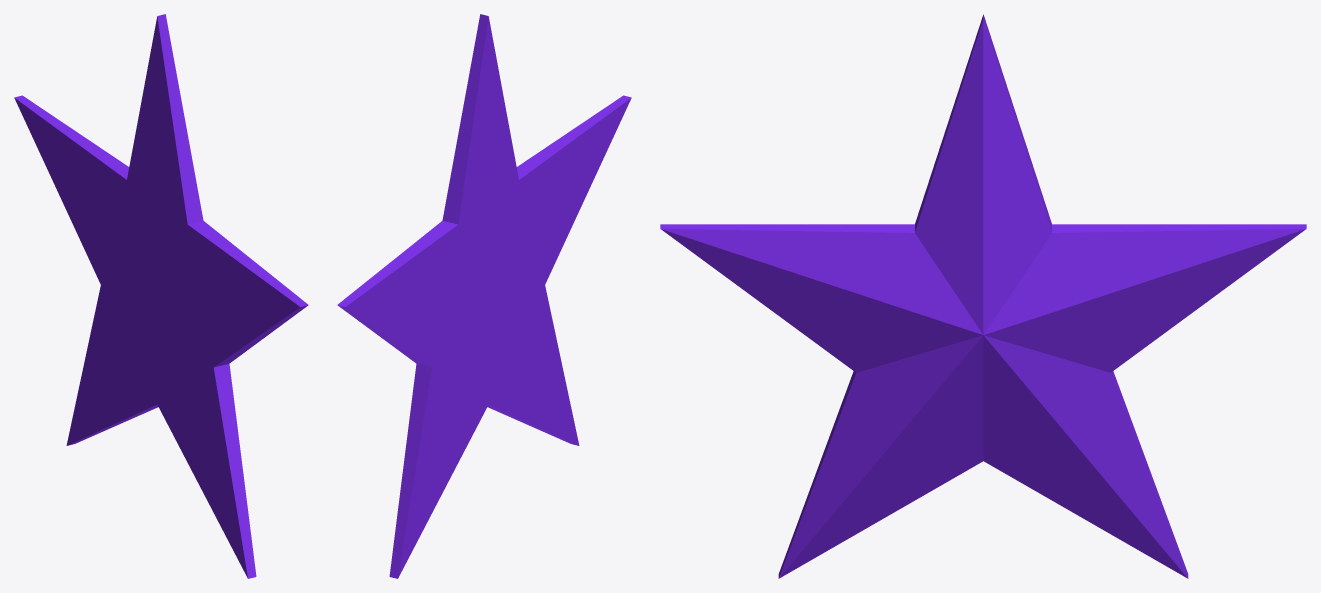
File: Purple Star.glb
3 renders of one model, left to right at view 1: azimuth 30°, elevation 25°; view 2: azimuth 150°, elevation 25°; view 3: azimuth 270°, elevation 25°, orthographic. The views are drawn at different scales.
Visible parts, largest first — view 1: Star.003; view 2: Star.003; view 3: Star.003.
Part boxes in pixels (x1,y1,x2,y2): Star.003: [14, 14, 308, 578]; Star.003: [337, 14, 631, 578]; Star.003: [660, 14, 1306, 578].
Bounding box in the file's own units: 0.3469 × 3.86 × 4.03.
Materials: 1 (1 with a texture image).
